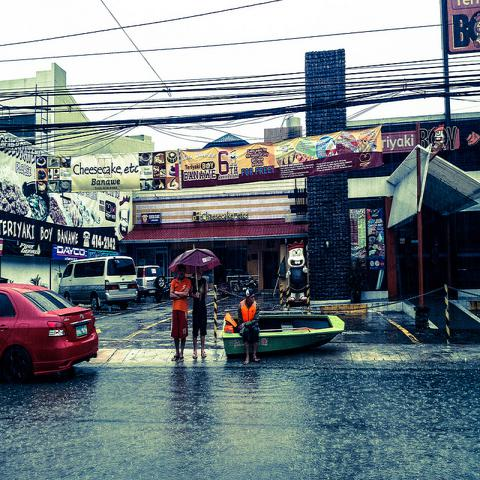car: (0, 284, 98, 385), (135, 266, 165, 301)
truck: (57, 256, 140, 311)
